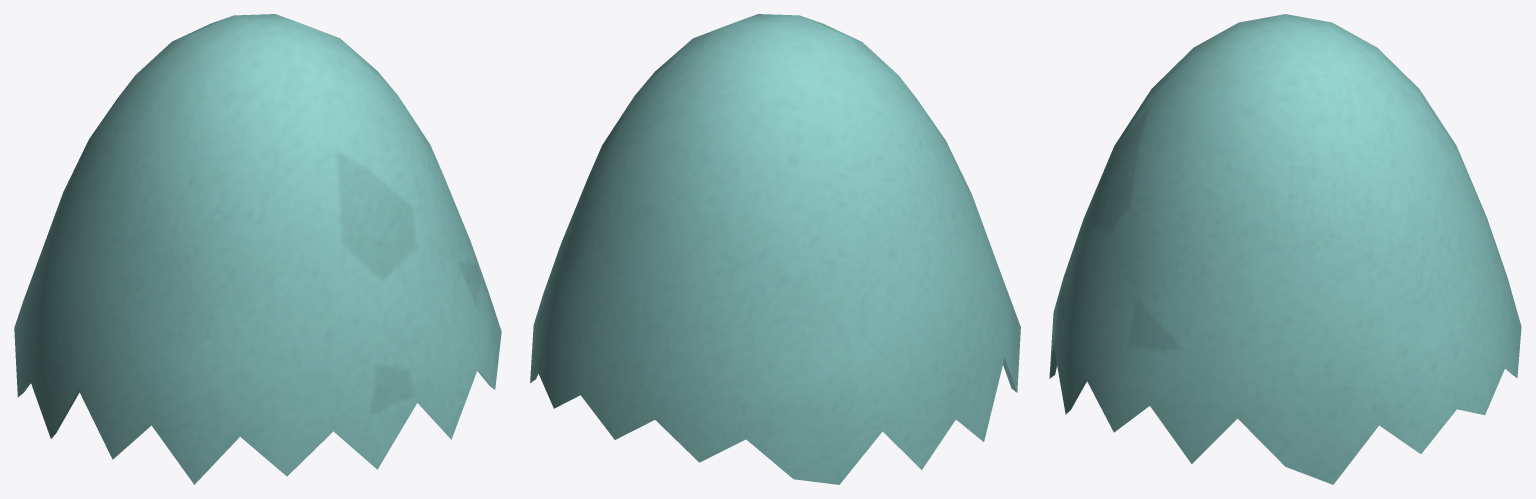
The model's file is EggTop.fbx.
The picture shows the model from 3 angles, left to right: view 1: azimuth 30°, elevation 25°; view 2: azimuth 150°, elevation 25°; view 3: azimuth 270°, elevation 25°; orthographic projection.
Parts seen in each view (by area): view 1: EggTop; view 2: EggTop; view 3: EggTop.
Boxes of the visible parts, x1,y1,x2,y2 form: EggTop: (14,14,501,484); EggTop: (530,14,1020,484); EggTop: (1049,14,1521,484).
Bounding box in the file's own units: 1.71 × 1.45 × 1.71.
1 material, 1 textured.
